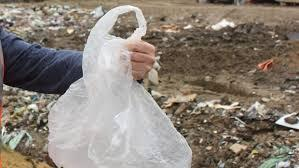Plastic bag: (39, 6, 192, 168)
